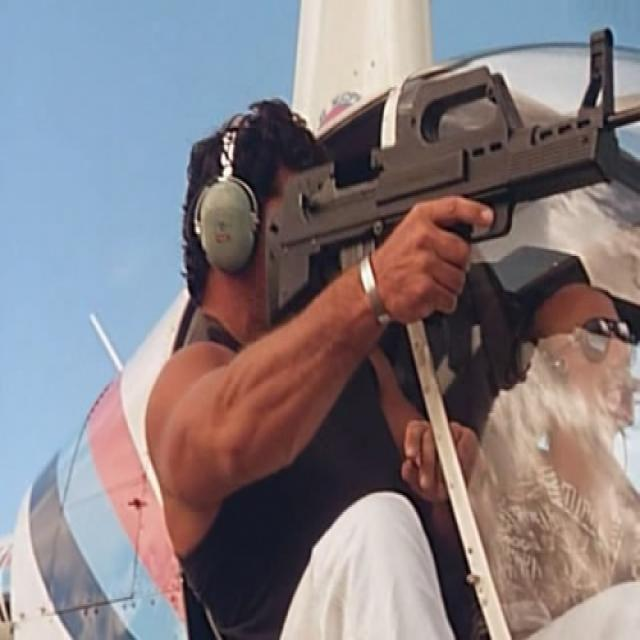rifle: (262, 22, 640, 344)
